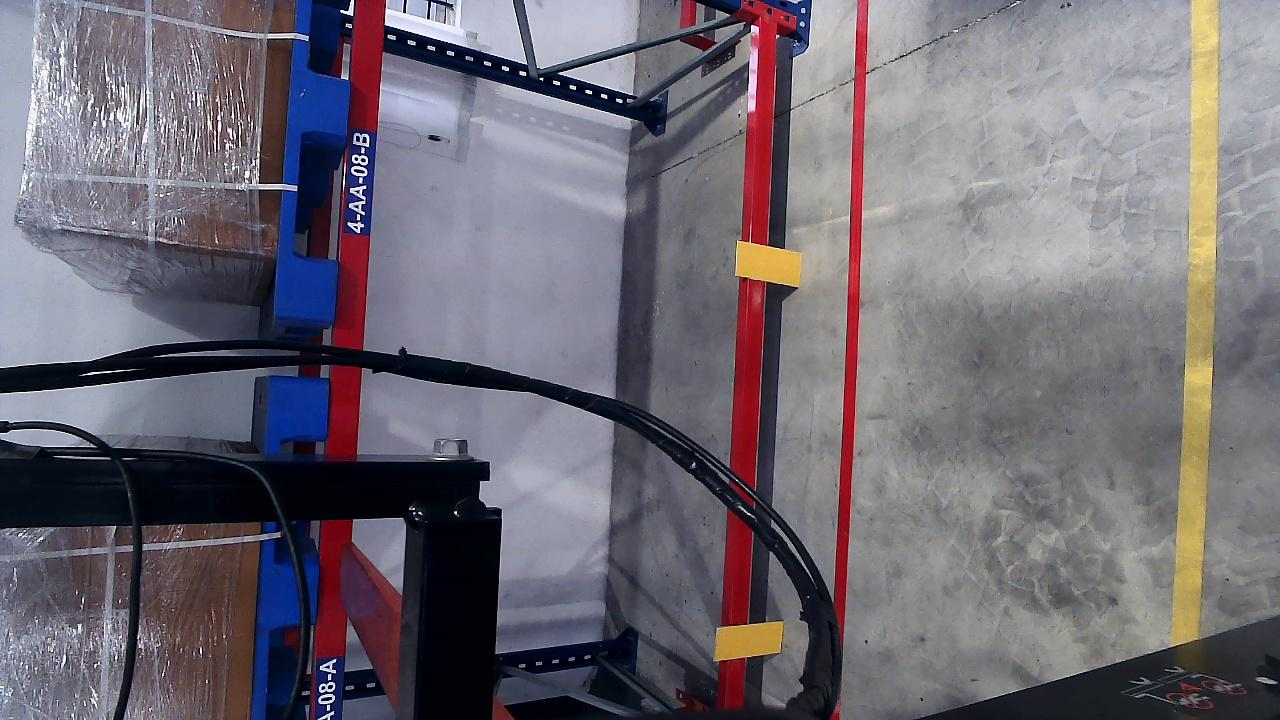h_rack: (326, 0, 390, 704), (724, 10, 777, 628)
orange_strip: (735, 241, 801, 287), (715, 621, 784, 661)
red_line: (832, 10, 868, 626)
small_pallet: (268, 1, 361, 320)
yellow_line: (1171, 4, 1219, 644)
